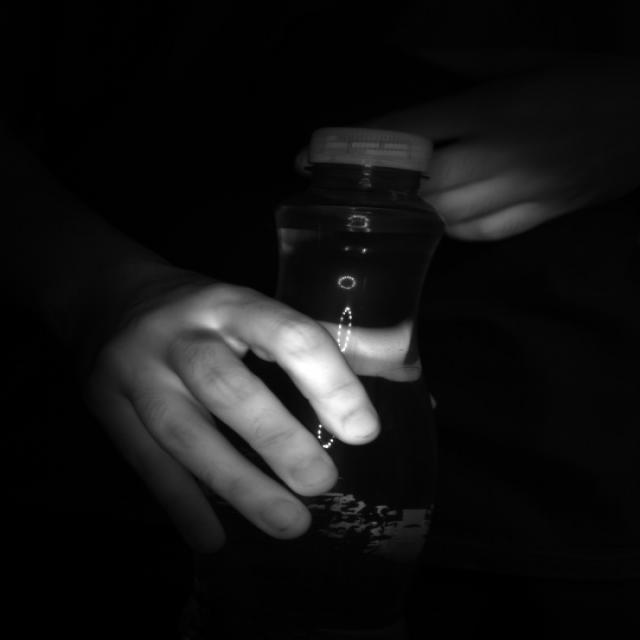Good: (310, 128, 437, 176)
